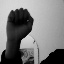a: (6, 7, 34, 50)
